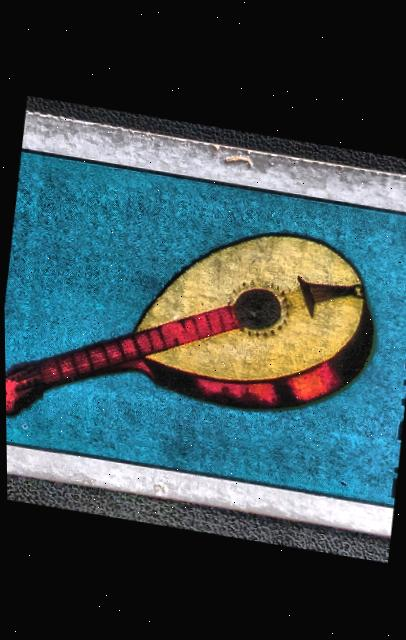El Bandolon: (1, 128, 406, 522)
